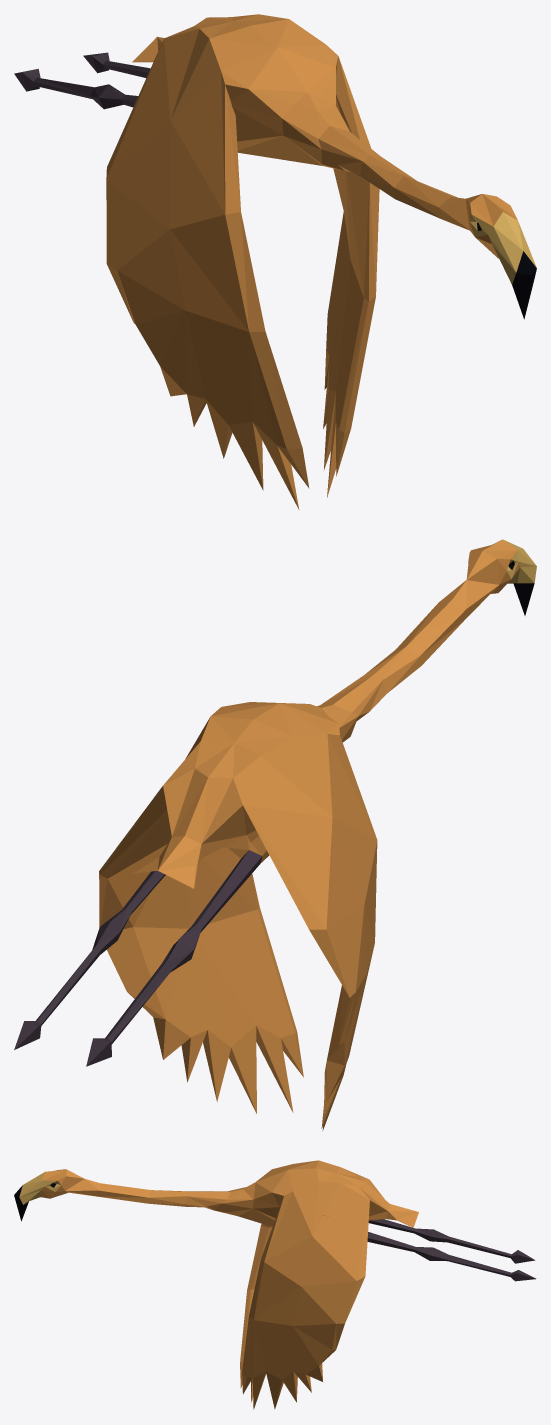
Rendered from Flamingo_orange_base.glb.
3 renders of one model, top to bottom at view 1: azimuth 30°, elevation 25°; view 2: azimuth 150°, elevation 25°; view 3: azimuth 270°, elevation 25°, orthographic. The views are drawn at different scales.
Size of the model in its own units: 52.2 by 89.1 by 177.
